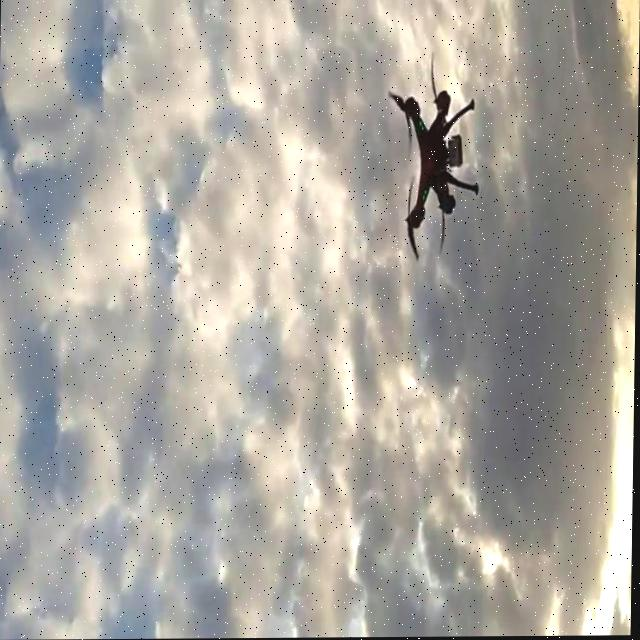drone: (386, 51, 480, 266)
